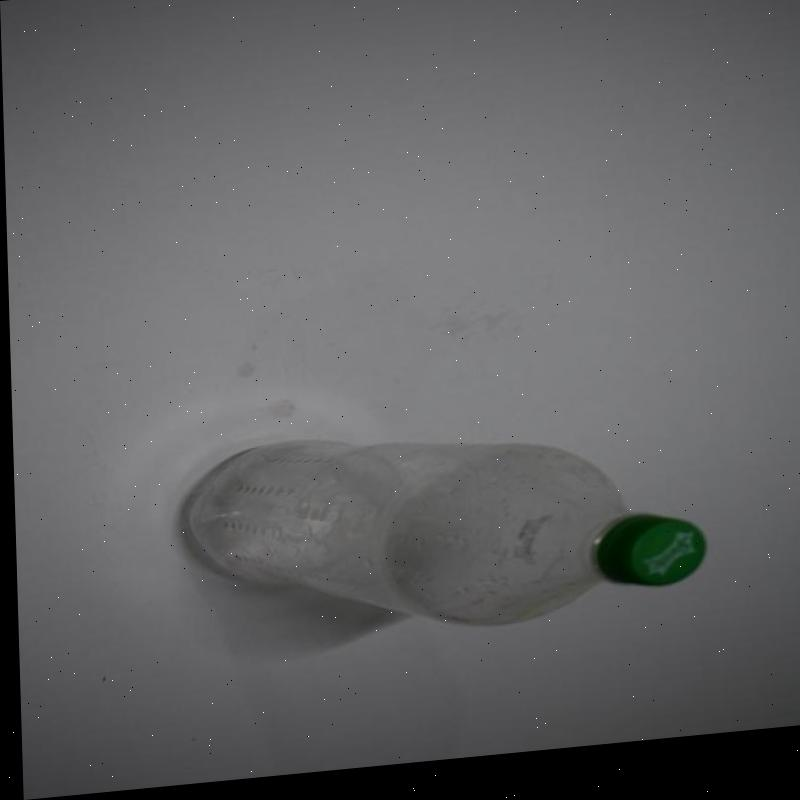botella: (172, 411, 712, 665)
